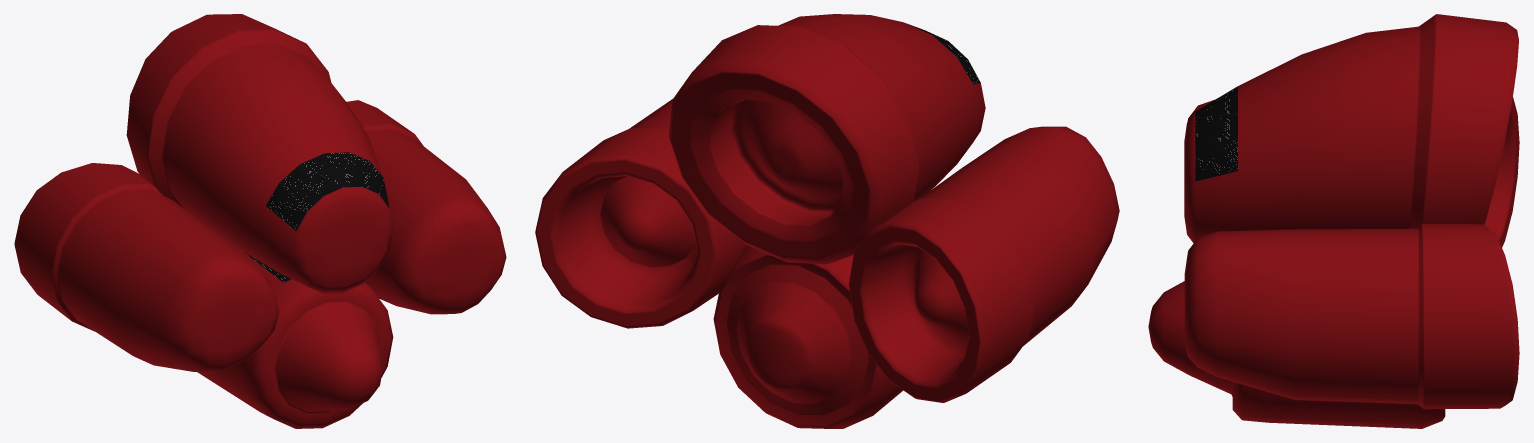
File: Spaceship_main_02_Engine.fbx
The picture shows the model from 3 angles, left to right: view 1: azimuth 30°, elevation 25°; view 2: azimuth 150°, elevation 25°; view 3: azimuth 270°, elevation 25°; orthographic projection. The views are drawn at different scales.
Parts seen in each view (by area): view 1: Spaceship_main_02_Engine; view 2: Spaceship_main_02_Engine; view 3: Spaceship_main_02_Engine.
Boxes of the visible parts, x1,y1,x2,y2 form: Spaceship_main_02_Engine: (14, 14, 506, 428); Spaceship_main_02_Engine: (535, 14, 1119, 428); Spaceship_main_02_Engine: (1148, 14, 1519, 428).
Size of the model in its own units: 191 by 163 by 139.
